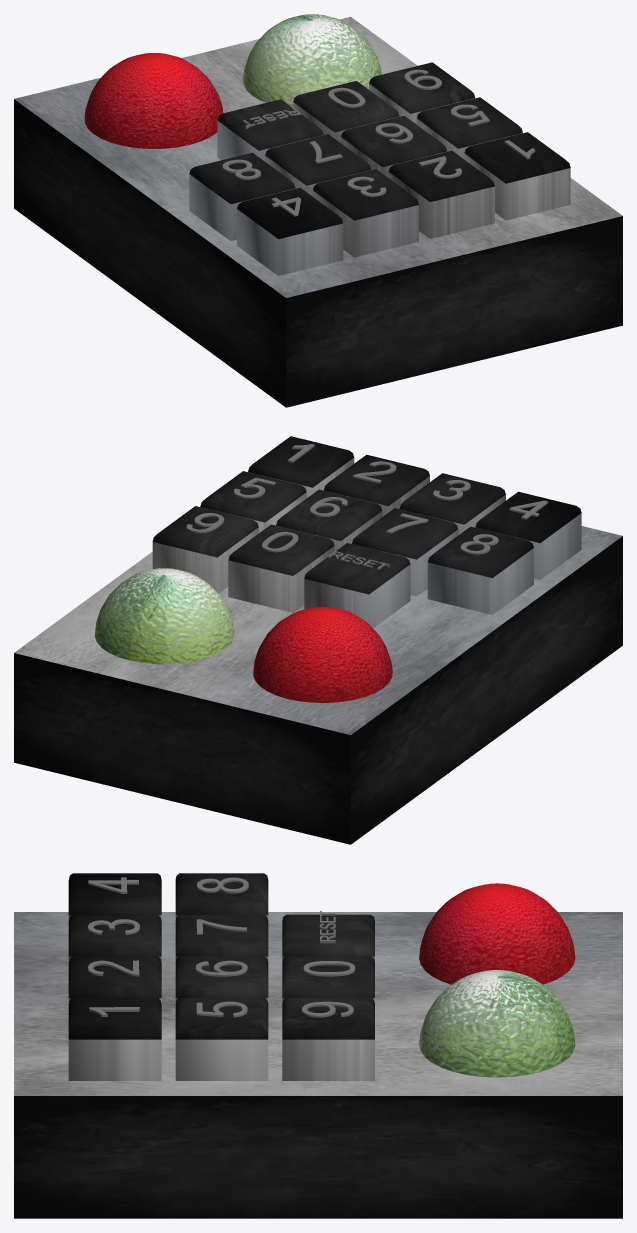
The model's file is CODE LOCK.fbx.
3 renders of one model, top to bottom at view 1: azimuth 30°, elevation 25°; view 2: azimuth 150°, elevation 25°; view 3: azimuth 270°, elevation 25°, orthographic. The views are drawn at different scales.
Parts seen in each view (by area): view 1: Box001; view 2: Box001; view 3: Box001.
Boxes of the visible parts, bbox=[...] form: Box001: bbox=[14, 14, 622, 407]; Box001: bbox=[14, 436, 622, 844]; Box001: bbox=[14, 873, 622, 1218].
Bounding box in the file's own units: 78.15 × 109 × 37.66.
